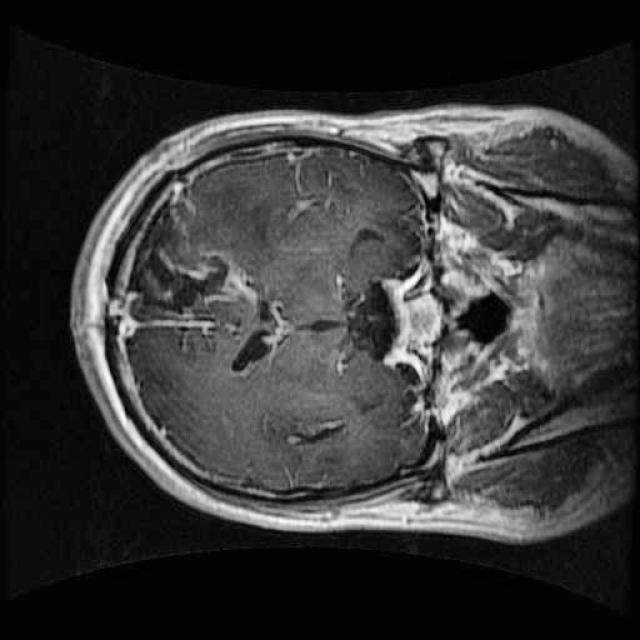Non-Tumor: (103, 171, 253, 340)
